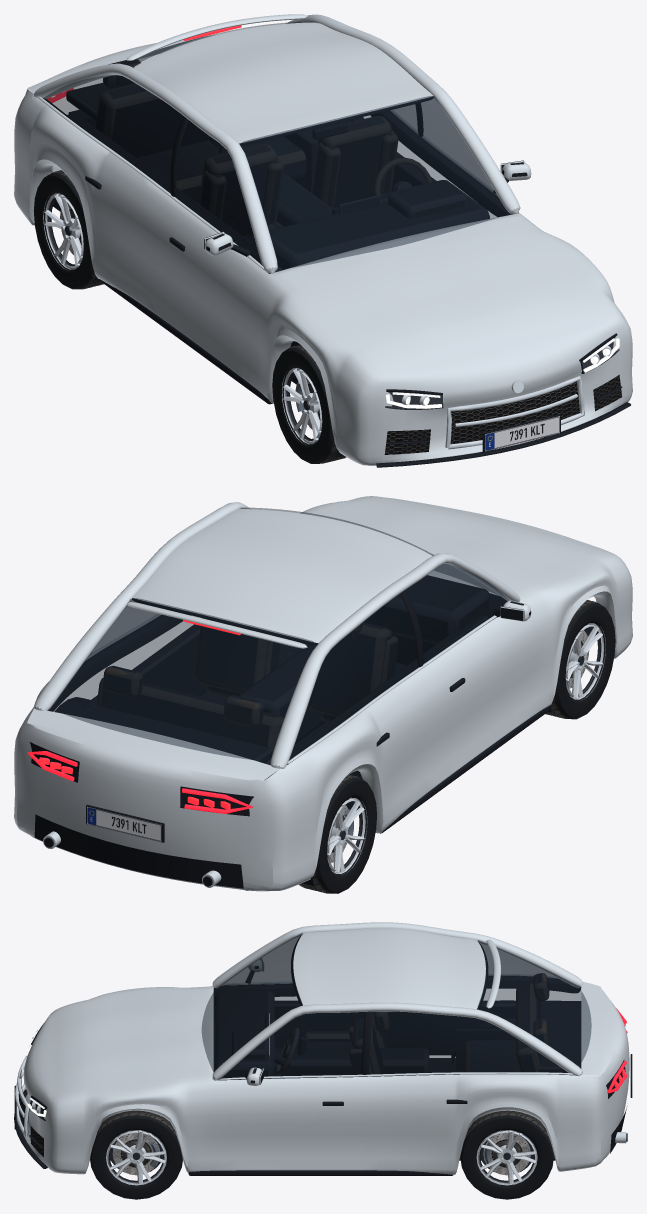
The model's file is traffic_car.glb.
3 renders of one model, top to bottom at view 1: azimuth 30°, elevation 25°; view 2: azimuth 150°, elevation 25°; view 3: azimuth 270°, elevation 25°, orthographic. The views are drawn at different scales.
Visible parts, largest first — view 1: Body, Glass, Interior, Wheel_FR, Wheel_RR, Headlights; view 2: Body, Glass, Interior, Wheel_RR, Wheel_FR, Taillights, Brakelights; view 3: Body, Glass, Interior, Wheel_RL, Wheel_FL.
Boxes of the visible parts, <box> form: Body: <box>14,14,632,467</box>; Glass: <box>43,22,511,271</box>; Interior: <box>55,59,489,347</box>; Wheel_FR: <box>272,344,346,463</box>; Wheel_RR: <box>34,170,103,289</box>; Headlights: <box>385,338,619,408</box>; Body: <box>14,496,632,891</box>; Glass: <box>47,508,508,764</box>; Interior: <box>71,575,497,809</box>; Wheel_RR: <box>299,774,376,893</box>; Wheel_FR: <box>545,600,615,719</box>; Taillights: <box>27,751,253,813</box>; Brakelights: <box>39,619,240,809</box>; Body: <box>14,922,632,1175</box>; Glass: <box>202,933,591,1078</box>; Interior: <box>215,973,581,1078</box>; Wheel_RL: <box>460,1110,554,1199</box>; Wheel_FL: <box>90,1110,182,1199</box>.
Bounding box in the file's own units: 2.03 × 1.44 × 4.34.
19 materials, 5 textured.
